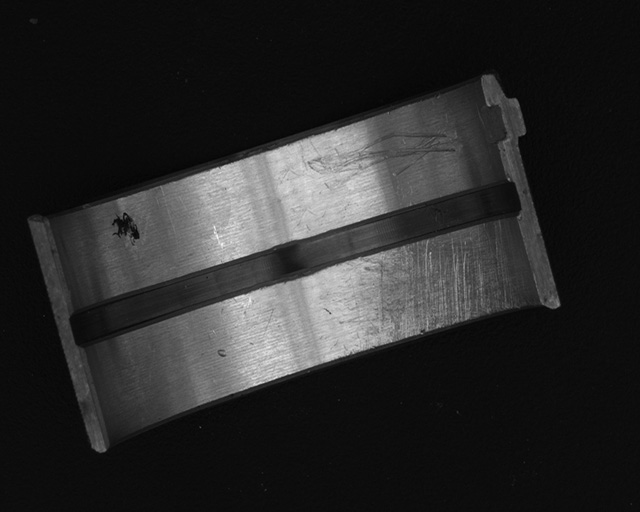blot: (110, 211, 140, 247)
bruise: (216, 346, 228, 359)
gap: (65, 182, 523, 349)
nick: (305, 129, 460, 188)
scratch: (337, 220, 520, 357)
